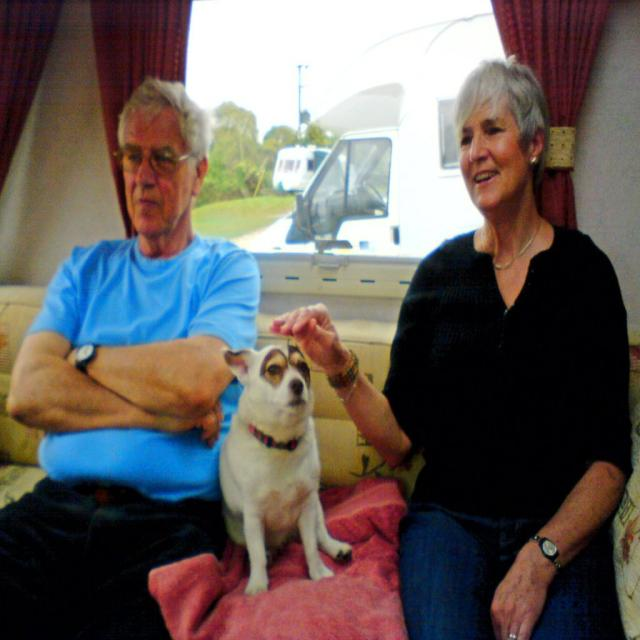Dog: (221, 335, 351, 597)
